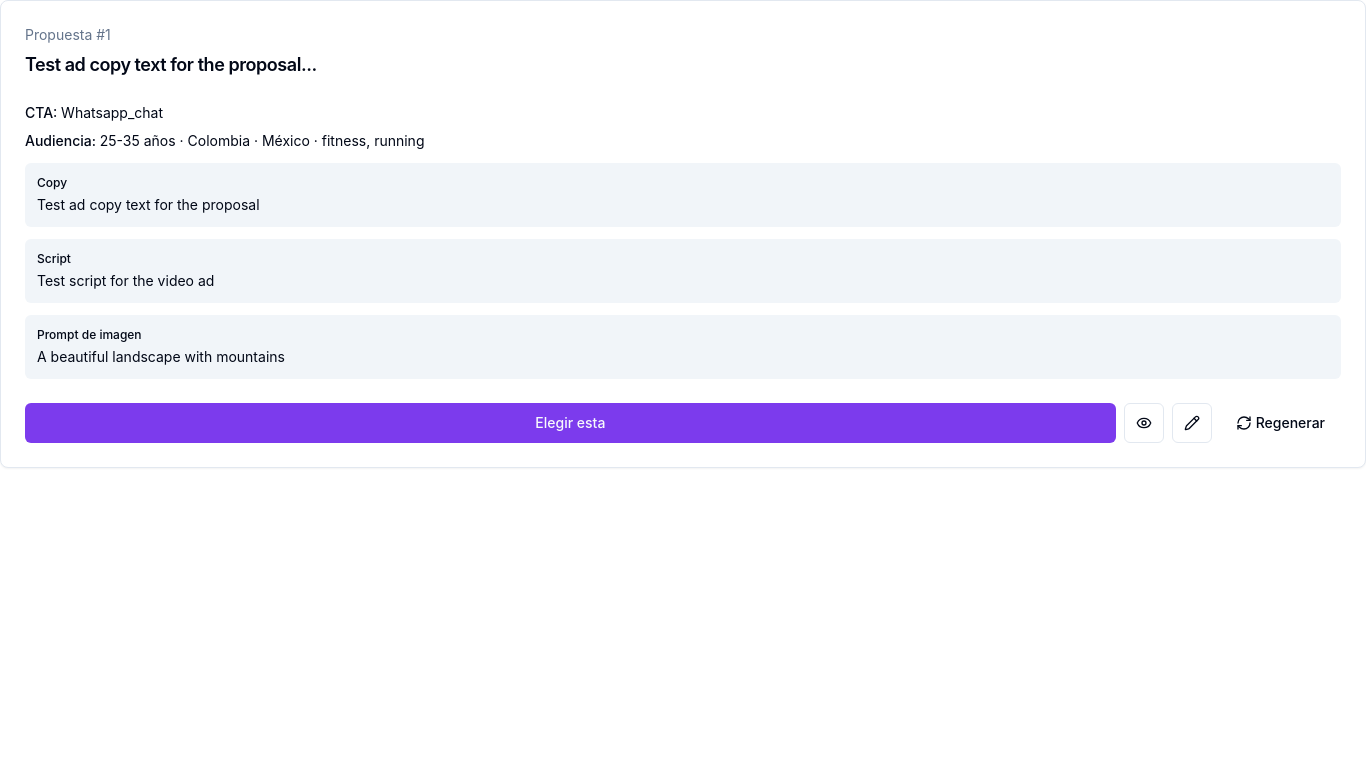
Test: Proposal Editing › shows validation error when whatsapp_number is empty for whatsapp_chat CTA
The width and height of the screenshot is (1366, 768).
Click the button titled "Editar" at {"x": 1192, "y": 423}, box x1=1172 y1=403 x2=1212 y2=443
(page scrolled)
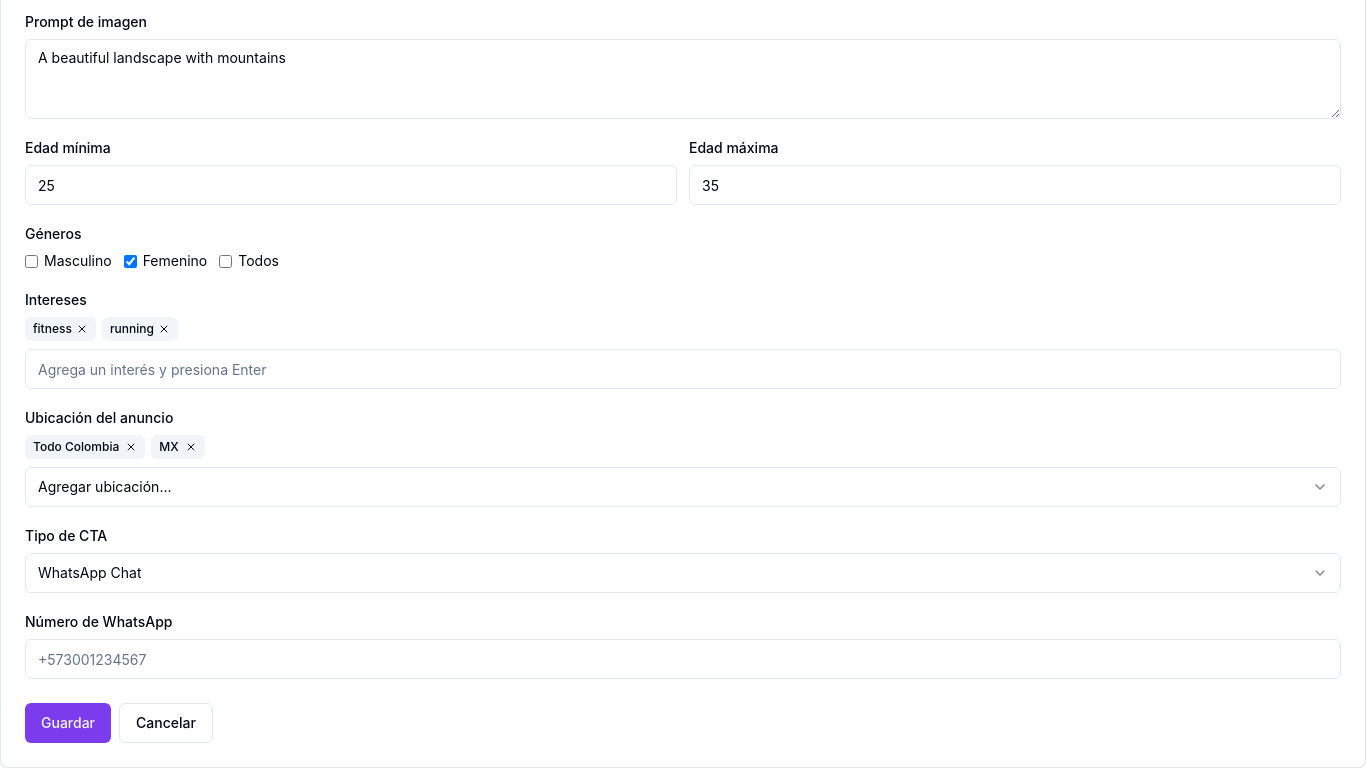
Clear the field labelled "Número de WhatsApp" at {"x": 683, "y": 659}, box x1=25 y1=639 x2=1341 y2=679
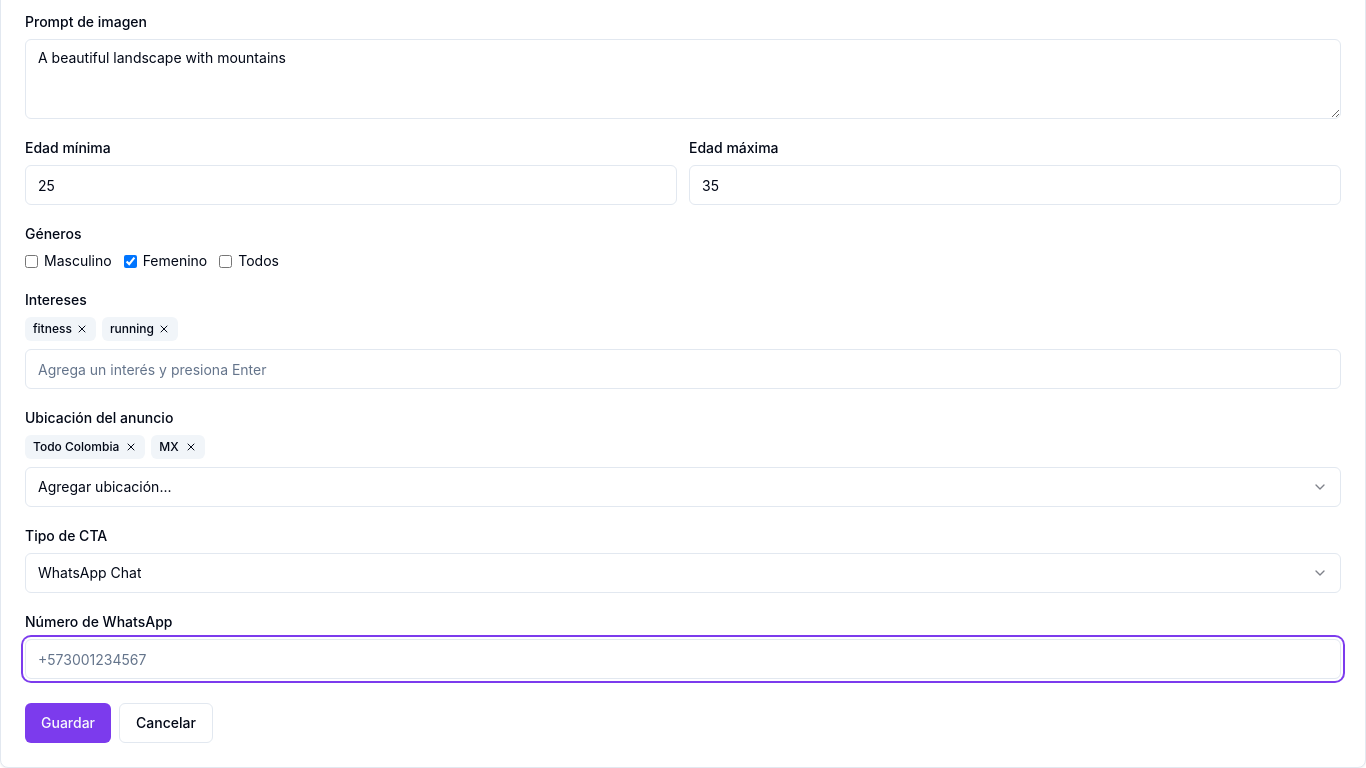
Click the button "Guardar" at {"x": 68, "y": 723}, box x1=25 y1=703 x2=111 y2=743
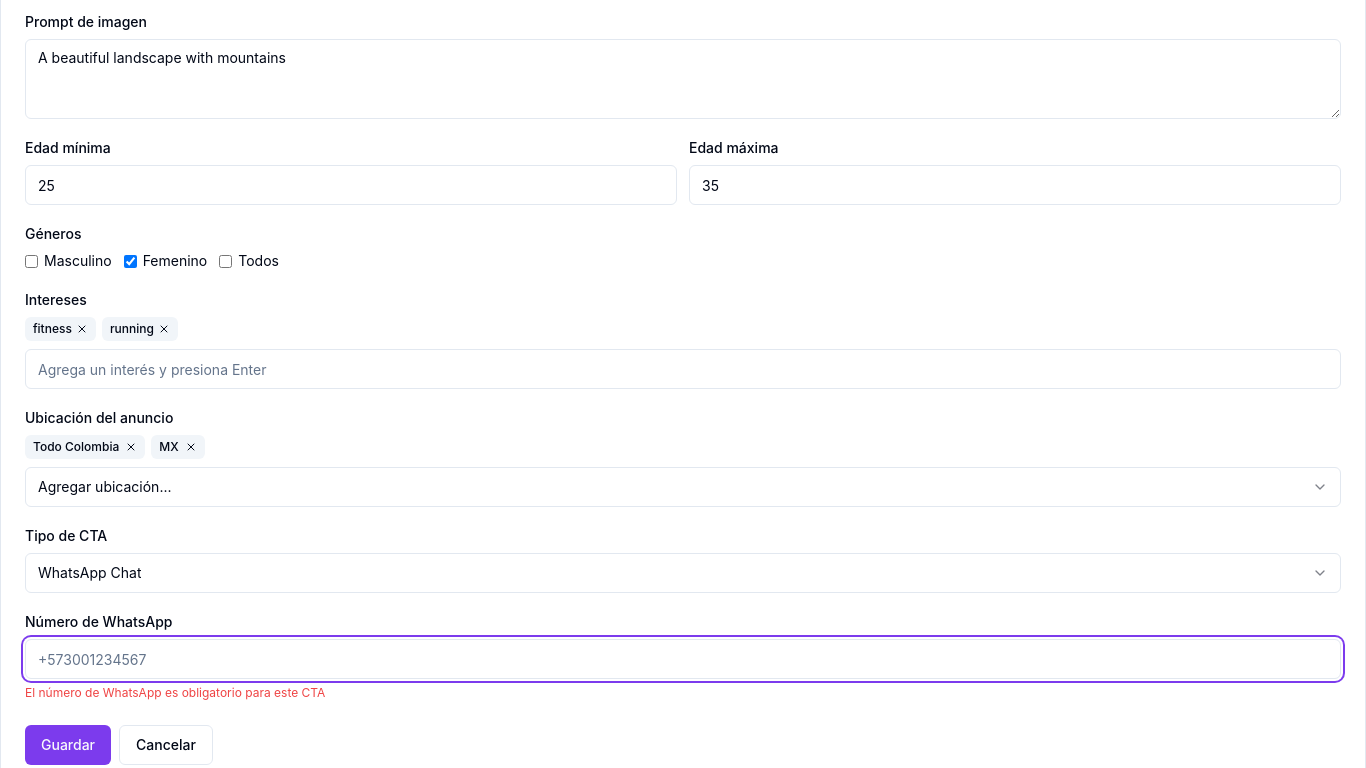
Check: the text "El número de WhatsApp es obligatorio para este CTA" is shown, box x1=25 y1=685 x2=325 y2=700
